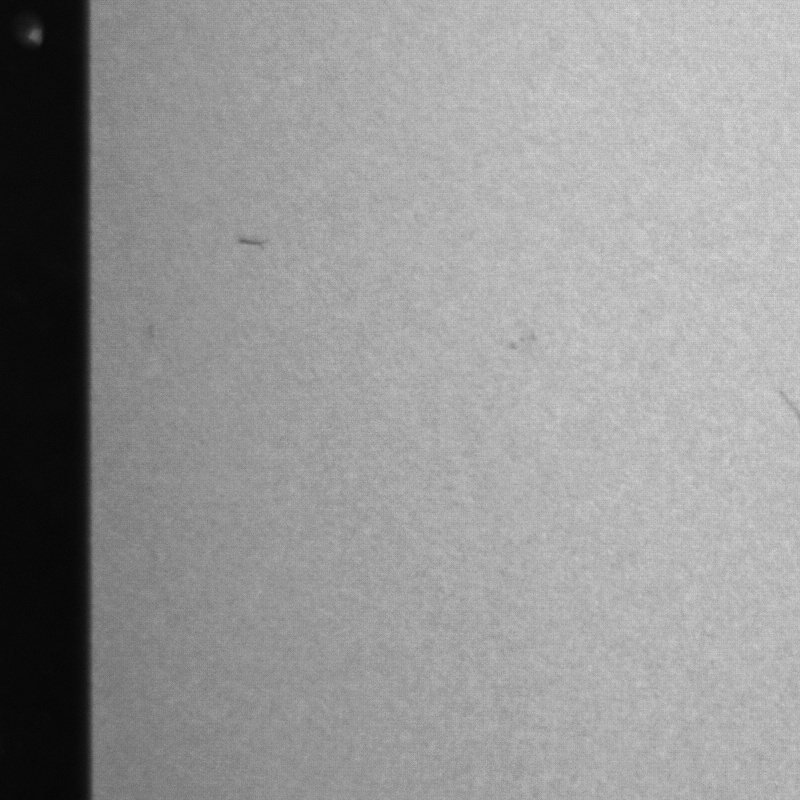defect: (140, 320, 163, 347), (774, 392, 800, 412), (507, 336, 538, 352), (238, 234, 271, 248)
